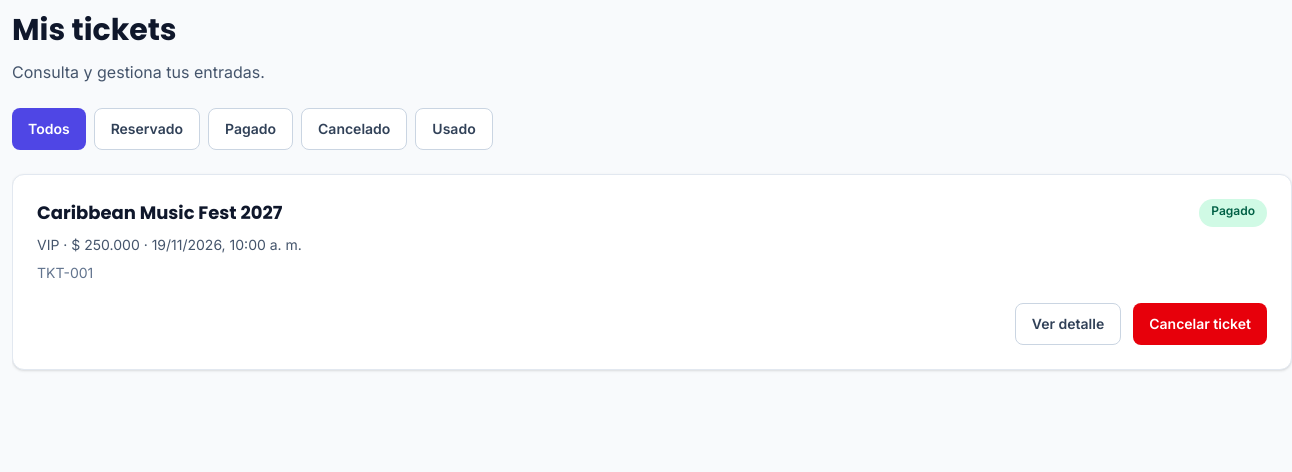
it: mis tickets filtra por estado sin cambiar datos del servidor
The width and height of the screenshot is (1292, 472).
Expected: the heading "Caribbean Music Fest 2027" is shown, top-left (37, 199), bottom-right (282, 227)
What coordinates should you click on to do the following:
click the button "Cancelado"
I would click on:
 (354, 129)
Its box is top-left (301, 108), bottom-right (407, 150).
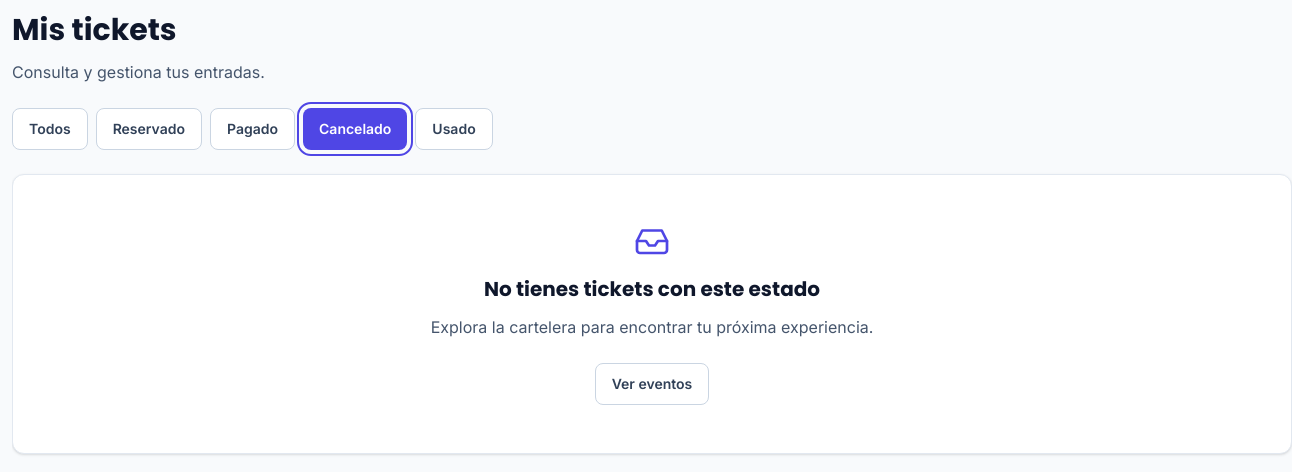
Now the heading "No tienes tickets con este estado" is shown, box top-left (484, 275), bottom-right (820, 303)
